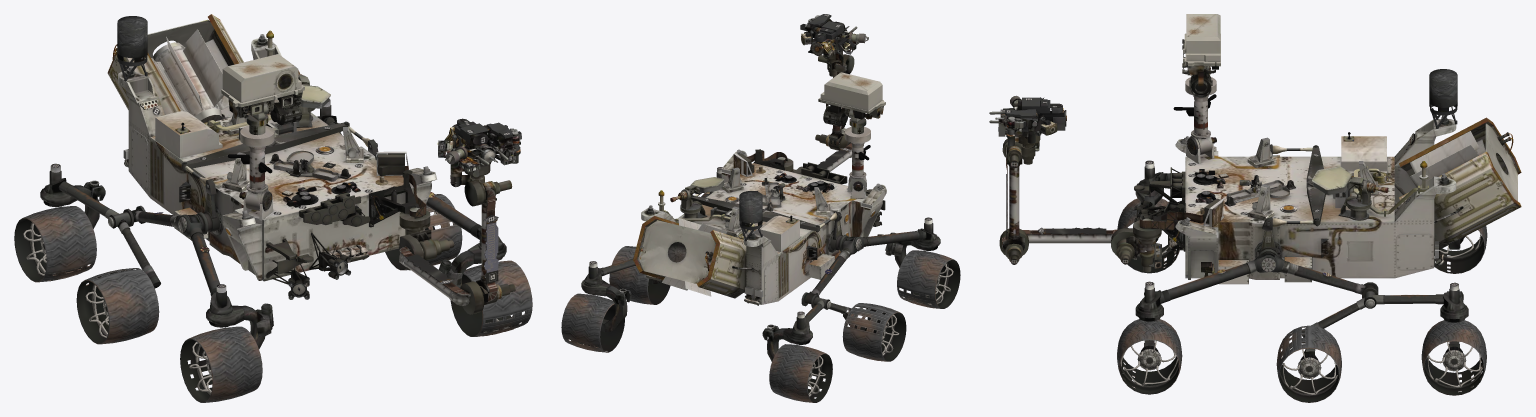
Rendered from rover.glb.
3 views of the same model, side by side, from view 1: azimuth 30°, elevation 25°; view 2: azimuth 150°, elevation 25°; view 3: azimuth 270°, elevation 25° (orthographic). The views are drawn at different scales.
Visible parts, largest first — view 1: MSL; view 2: MSL; view 3: MSL.
Boxes of the visible parts, x1,y1,x2,y2 form: MSL: (14,14,532,402); MSL: (561,14,960,402); MSL: (989,14,1521,402).
Bounding box in the file's own units: 2.78 × 2.22 × 3.94.
Materials: 9 (8 with a texture image).
